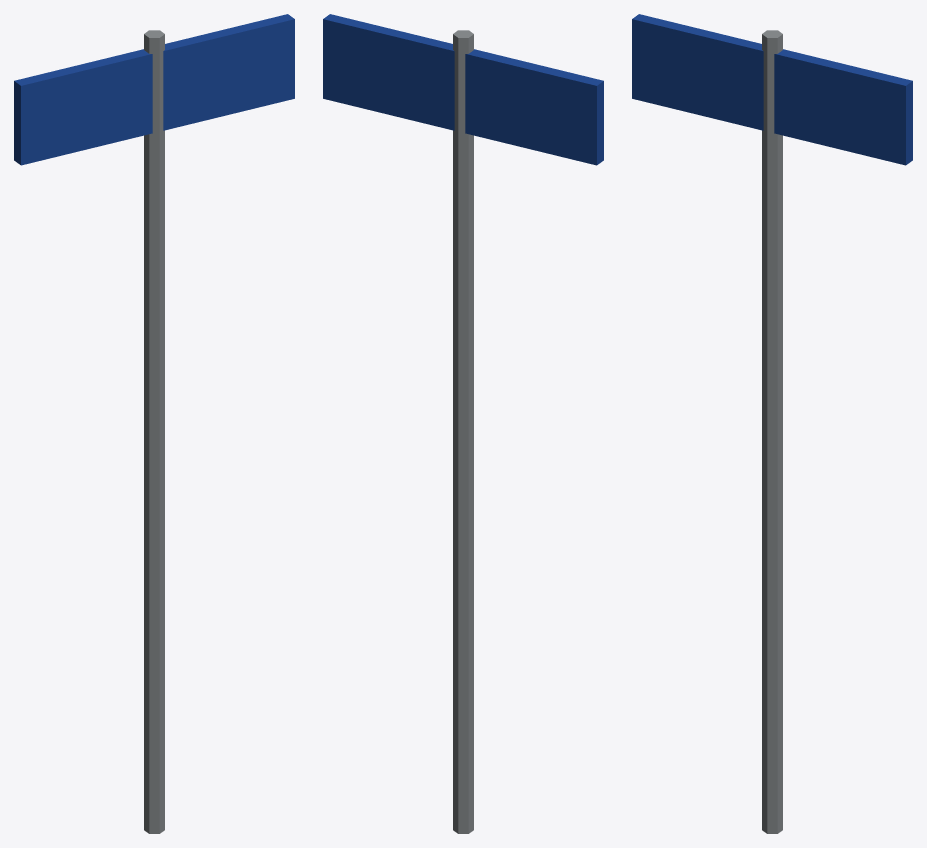
Rendered from placa_rua.glb.
The picture shows the model from 3 angles, left to right: view 1: azimuth 30°, elevation 25°; view 2: azimuth 150°, elevation 25°; view 3: azimuth 330°, elevation 25°; orthographic projection.
Visible parts, largest first — view 1: placa_rua; view 2: placa_rua; view 3: placa_rua.
Part boxes in pixels (x1,y1,x2,y2): placa_rua: (14, 14, 294, 833); placa_rua: (323, 14, 603, 833); placa_rua: (632, 14, 912, 833).
Bounding box in the file's own units: 0.9 × 2.5 × 0.06.
